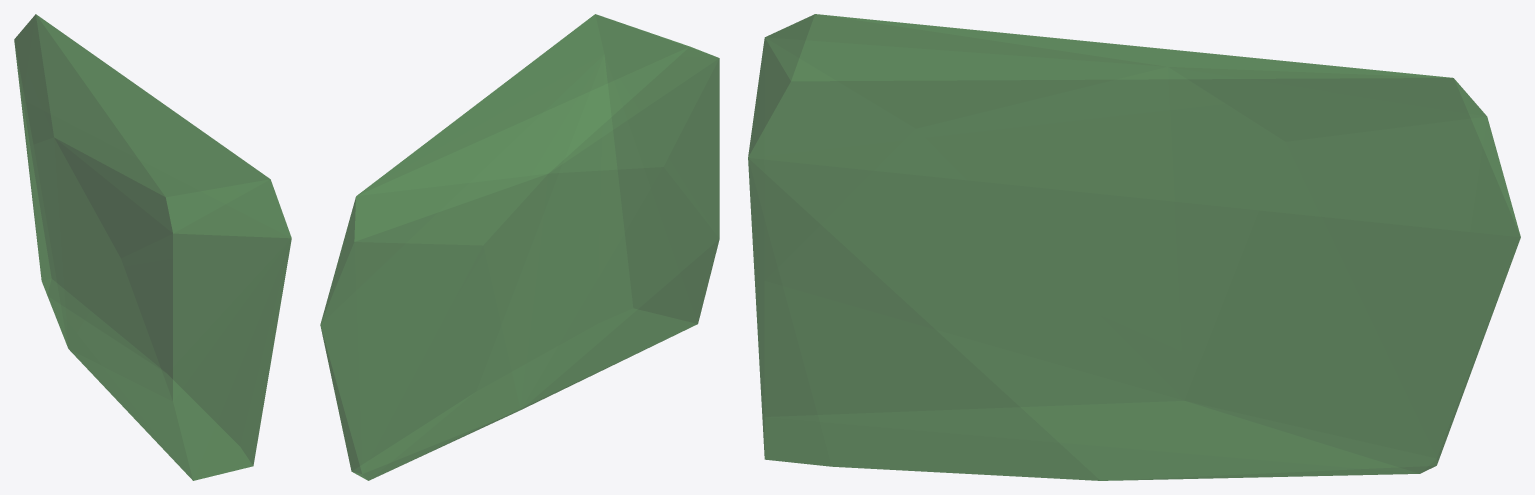
3 renders of one model, left to right at view 1: azimuth 30°, elevation 25°; view 2: azimuth 150°, elevation 25°; view 3: azimuth 270°, elevation 25°, orthographic. The views are drawn at different scales.
Visible parts, largest first — view 1: Shape_IndexedFaceSet.106_Shape_IndexedFaceSet.9627; view 2: Shape_IndexedFaceSet.106_Shape_IndexedFaceSet.9627; view 3: Shape_IndexedFaceSet.106_Shape_IndexedFaceSet.9627.
Part boxes in pixels (x1,y1,x2,y2): Shape_IndexedFaceSet.106_Shape_IndexedFaceSet.9627: [14, 14, 291, 480]; Shape_IndexedFaceSet.106_Shape_IndexedFaceSet.9627: [320, 14, 719, 480]; Shape_IndexedFaceSet.106_Shape_IndexedFaceSet.9627: [748, 14, 1520, 480].
Bounding box in the file's own units: 0.0741 × 0.1717 × 0.3031.
